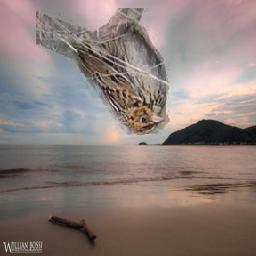Sparrow: (36, 9, 170, 136)
